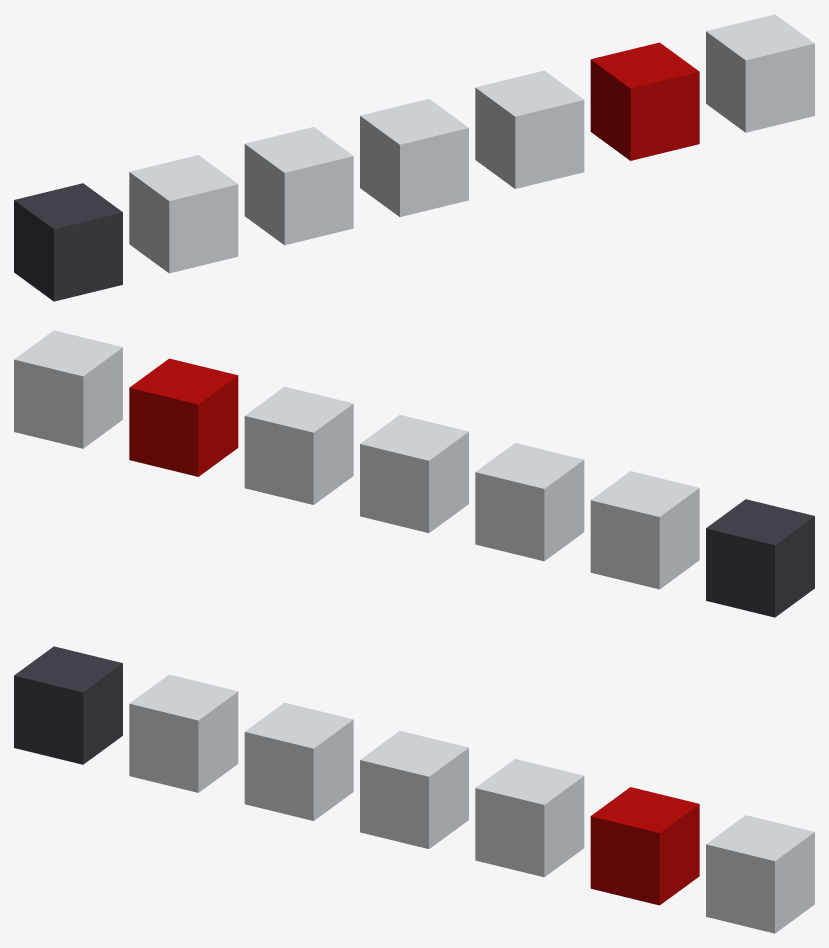
File: tool_main_insert_mtl.dae
3 renders of one model, top to bottom at view 1: azimuth 30°, elevation 25°; view 2: azimuth 150°, elevation 25°; view 3: azimuth 330°, elevation 25°, orthographic.
Visible parts, largest first — view 1: node_7d07af89_be92_4e25_b1ed_223338461e7b_mesh0, node_138d98e6_11da_4c63_8ec6_9723e769ec44_mesh0, node_7d55322f_41f2_45d9_be22_722c74fd3c70_mesh0, node_73f64683_c1e7_44cb_a62e_4fcfd06a26aa_mesh0, node_740872e8_2bf8_49f6_91c9_540bb648f62c_mesh0, node_14d5d78d_a223_4c6d_b54d_5484f715b451_mesh0, node_eb1106a1_709a_4b05_8698_dcfc9e093dee_mesh0; view 2: node_7d07af89_be92_4e25_b1ed_223338461e7b_mesh0, node_138d98e6_11da_4c63_8ec6_9723e769ec44_mesh0, node_7d55322f_41f2_45d9_be22_722c74fd3c70_mesh0, node_73f64683_c1e7_44cb_a62e_4fcfd06a26aa_mesh0, node_740872e8_2bf8_49f6_91c9_540bb648f62c_mesh0, node_14d5d78d_a223_4c6d_b54d_5484f715b451_mesh0, node_eb1106a1_709a_4b05_8698_dcfc9e093dee_mesh0; view 3: node_7d07af89_be92_4e25_b1ed_223338461e7b_mesh0, node_138d98e6_11da_4c63_8ec6_9723e769ec44_mesh0, node_7d55322f_41f2_45d9_be22_722c74fd3c70_mesh0, node_73f64683_c1e7_44cb_a62e_4fcfd06a26aa_mesh0, node_740872e8_2bf8_49f6_91c9_540bb648f62c_mesh0, node_14d5d78d_a223_4c6d_b54d_5484f715b451_mesh0, node_eb1106a1_709a_4b05_8698_dcfc9e093dee_mesh0.
Part boxes in pixels (left/top/right/bottom): node_7d07af89_be92_4e25_b1ed_223338461e7b_mesh0: left=244, top=127, right=353, bottom=245; node_138d98e6_11da_4c63_8ec6_9723e769ec44_mesh0: left=475, top=70, right=584, bottom=188; node_7d55322f_41f2_45d9_be22_722c74fd3c70_mesh0: left=129, top=155, right=238, bottom=273; node_73f64683_c1e7_44cb_a62e_4fcfd06a26aa_mesh0: left=590, top=42, right=699, bottom=160; node_740872e8_2bf8_49f6_91c9_540bb648f62c_mesh0: left=14, top=183, right=122, bottom=301; node_14d5d78d_a223_4c6d_b54d_5484f715b451_mesh0: left=706, top=14, right=814, bottom=132; node_eb1106a1_709a_4b05_8698_dcfc9e093dee_mesh0: left=360, top=99, right=468, bottom=216; node_7d07af89_be92_4e25_b1ed_223338461e7b_mesh0: left=475, top=443, right=584, bottom=561; node_138d98e6_11da_4c63_8ec6_9723e769ec44_mesh0: left=244, top=386, right=353, bottom=504; node_7d55322f_41f2_45d9_be22_722c74fd3c70_mesh0: left=590, top=471, right=699, bottom=589; node_73f64683_c1e7_44cb_a62e_4fcfd06a26aa_mesh0: left=129, top=358, right=238, bottom=476; node_740872e8_2bf8_49f6_91c9_540bb648f62c_mesh0: left=706, top=499, right=814, bottom=617; node_14d5d78d_a223_4c6d_b54d_5484f715b451_mesh0: left=14, top=330, right=122, bottom=448; node_eb1106a1_709a_4b05_8698_dcfc9e093dee_mesh0: left=360, top=415, right=468, bottom=532; node_7d07af89_be92_4e25_b1ed_223338461e7b_mesh0: left=244, top=702, right=353, bottom=820; node_138d98e6_11da_4c63_8ec6_9723e769ec44_mesh0: left=475, top=759, right=584, bottom=877; node_7d55322f_41f2_45d9_be22_722c74fd3c70_mesh0: left=129, top=674, right=238, bottom=792; node_73f64683_c1e7_44cb_a62e_4fcfd06a26aa_mesh0: left=590, top=787, right=699, bottom=905; node_740872e8_2bf8_49f6_91c9_540bb648f62c_mesh0: left=14, top=646, right=122, bottom=764; node_14d5d78d_a223_4c6d_b54d_5484f715b451_mesh0: left=706, top=815, right=814, bottom=933; node_eb1106a1_709a_4b05_8698_dcfc9e093dee_mesh0: left=360, top=731, right=468, bottom=848.
Size of the model in its own units: 66 by 6 by 6.
